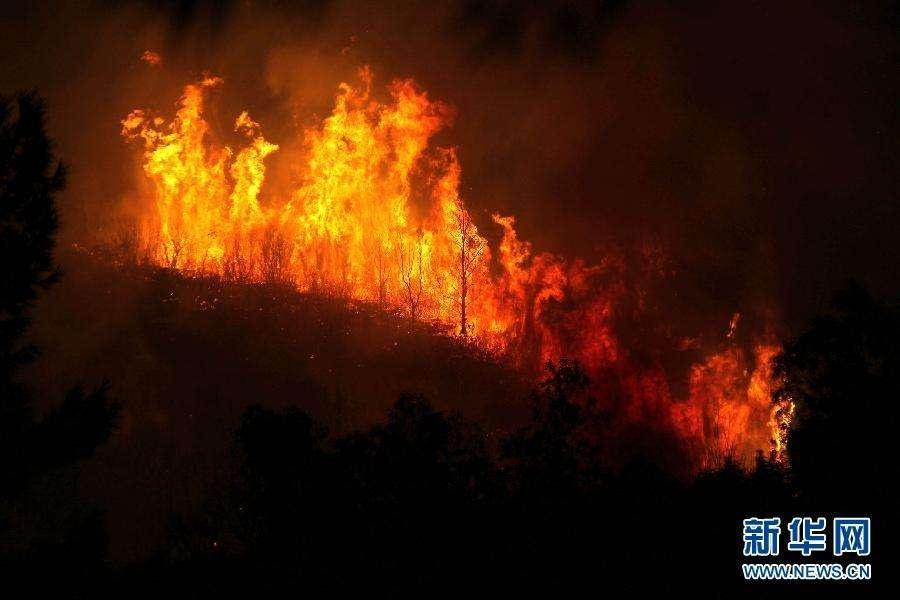fire: (114, 62, 503, 349), (492, 223, 811, 480)
